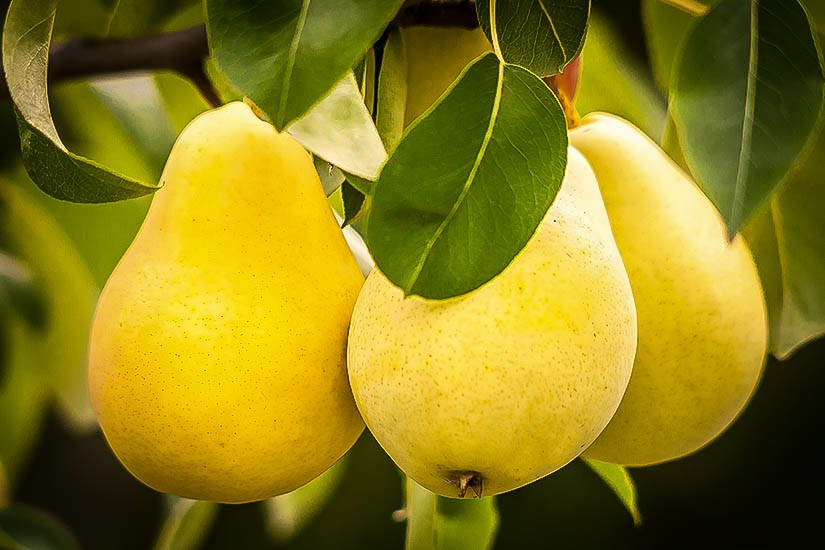pear: (86, 98, 369, 505), (348, 134, 637, 500), (530, 108, 767, 465)
